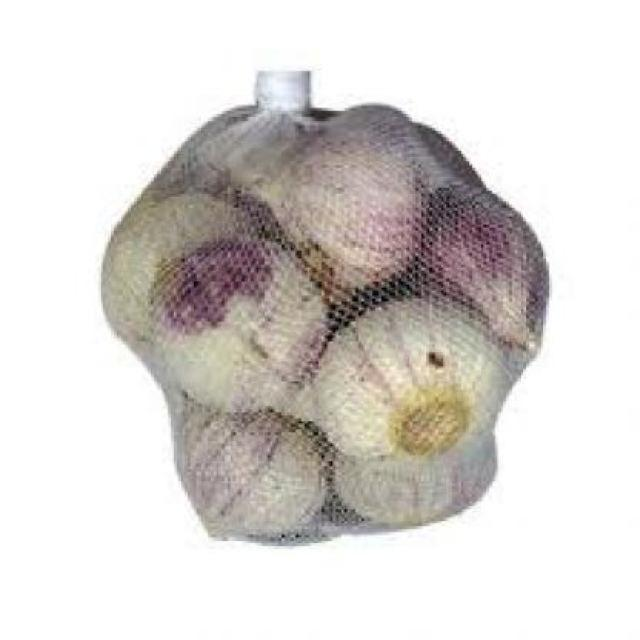BIODEGRADABLE: (318, 299, 500, 466), (165, 238, 333, 412), (276, 115, 430, 290), (102, 190, 266, 350), (418, 188, 550, 355), (179, 402, 327, 543), (336, 436, 501, 530)
